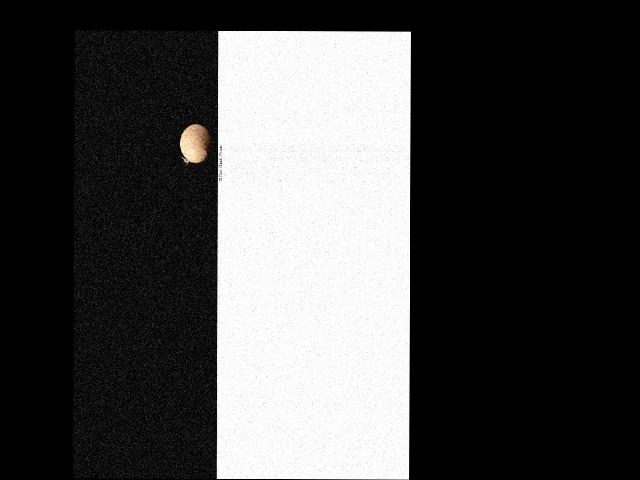egg: (180, 123, 211, 162)
